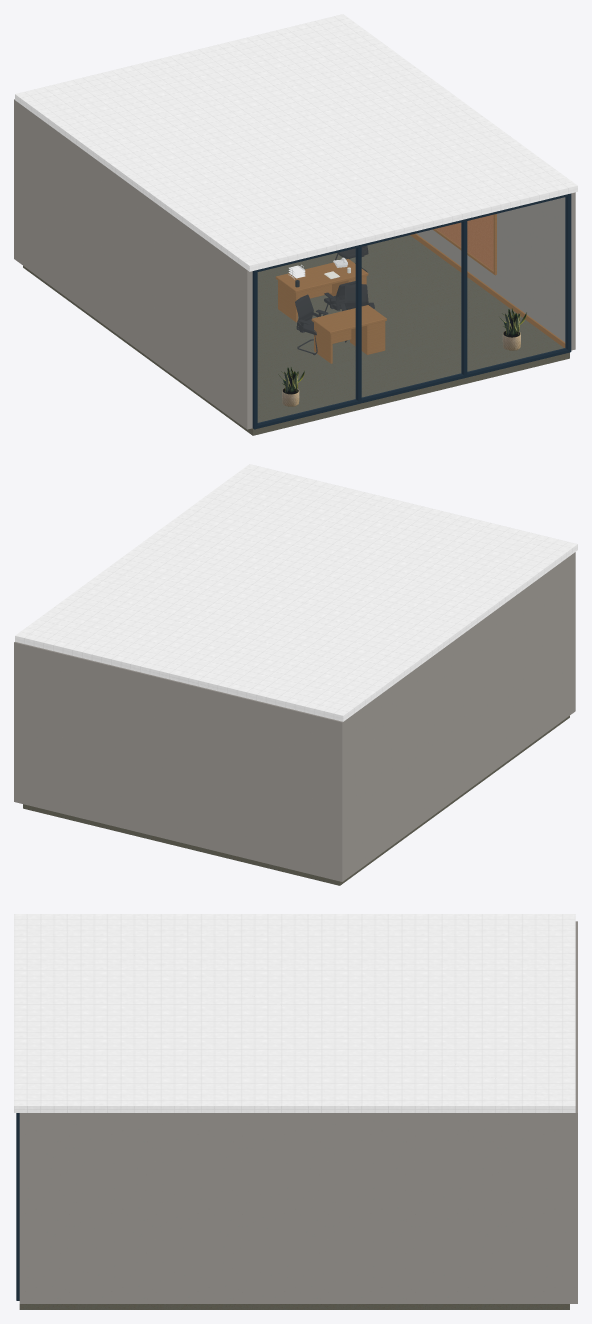
Rendered from magokoro.glb.
The picture shows the model from 3 angles, top to bottom: view 1: azimuth 30°, elevation 25°; view 2: azimuth 150°, elevation 25°; view 3: azimuth 270°, elevation 25°; orthographic projection. The views are drawn at different scales.
Visible parts, largest first — view 1: Magokoro_architecture, Magokoro_floor, Magokoro_furniture, Magokoro_plants; view 2: Magokoro_architecture, Magokoro_floor; view 3: Magokoro_architecture, Magokoro_floor.
Boxes of the visible parts, left/top/right/bottom form: Magokoro_architecture: left=14, top=14, right=577, bottom=429; Magokoro_floor: left=23, top=235, right=569, bottom=435; Magokoro_furniture: left=275, top=245, right=386, bottom=363; Magokoro_plants: left=278, top=308, right=526, bottom=406; Magokoro_architecture: left=14, top=464, right=577, bottom=881; Magokoro_floor: left=23, top=716, right=569, bottom=885; Magokoro_architecture: left=14, top=914, right=577, bottom=1303; Magokoro_floor: left=19, top=1304, right=569, bottom=1309.
Size of the model in its own units: 8.08 by 4.07 by 10.04.
Materials: 45 (11 with a texture image).
